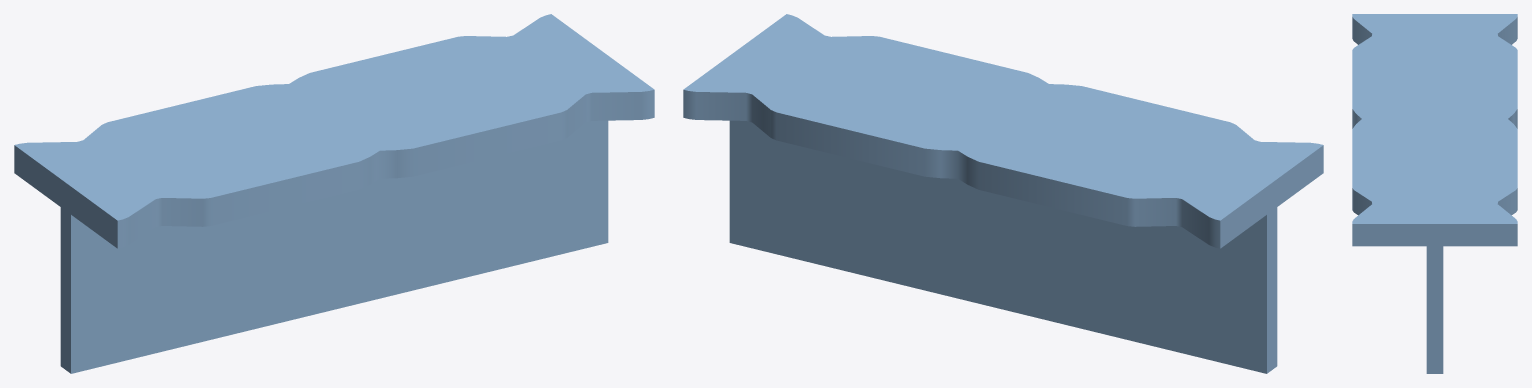
The model's file is PSKbarTable.FBX.
3 views of the same model, side by side, from view 1: azimuth 30°, elevation 25°; view 2: azimuth 150°, elevation 25°; view 3: azimuth 270°, elevation 25° (orthographic). The views are drawn at different scales.
Visible parts, largest first — view 1: barTable; view 2: barTable; view 3: barTable.
Boxes of the visible parts, x1,y1,x2,y2 form: barTable: (14, 14, 654, 373); barTable: (683, 14, 1323, 373); barTable: (1352, 14, 1517, 373).
Bounding box in the file's own units: 3 × 1 × 1.
